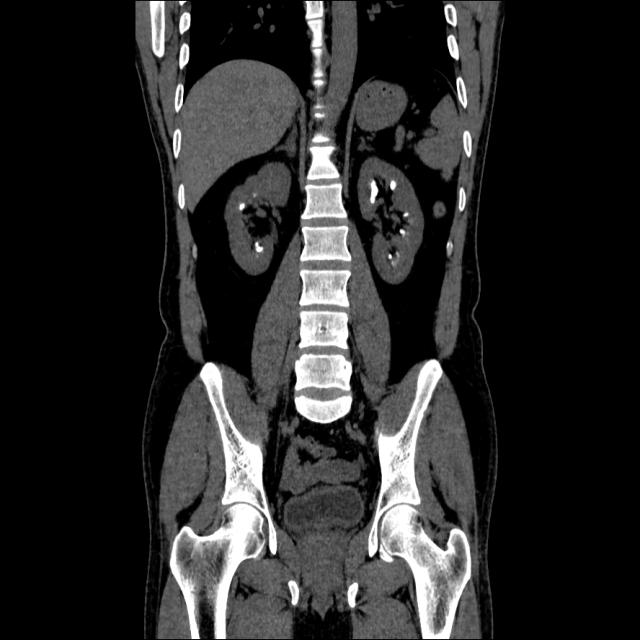kidneystone: (370, 179, 379, 203), (255, 241, 264, 252), (400, 204, 409, 215), (239, 202, 245, 211), (399, 228, 405, 234), (389, 181, 395, 187), (388, 252, 390, 257)
